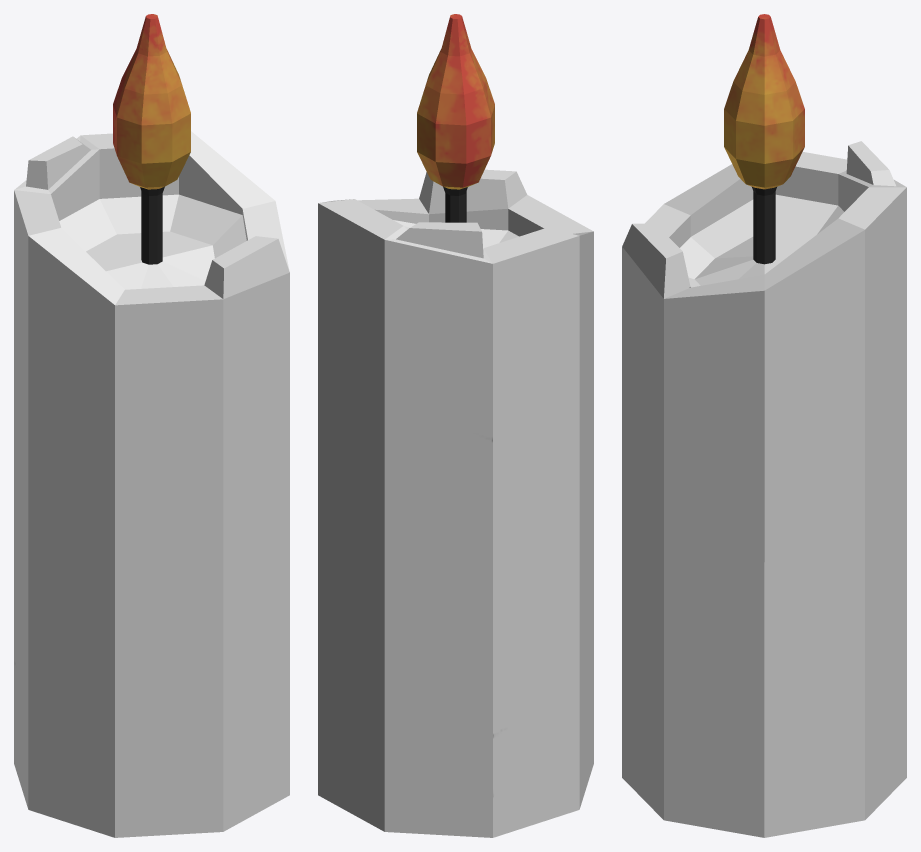
File: CandleTall.fbx
3 renders of one model, left to right at view 1: azimuth 30°, elevation 25°; view 2: azimuth 150°, elevation 25°; view 3: azimuth 270°, elevation 25°, orthographic.
Parts seen in each view (by area): view 1: CandleTall; view 2: CandleTall; view 3: CandleTall.
Boxes of the visible parts, x1,y1,x2,y2 form: CandleTall: [14, 14, 289, 837]; CandleTall: [318, 14, 593, 837]; CandleTall: [622, 14, 906, 837].
Bounding box in the file's own units: 6 × 17.7 × 6.
